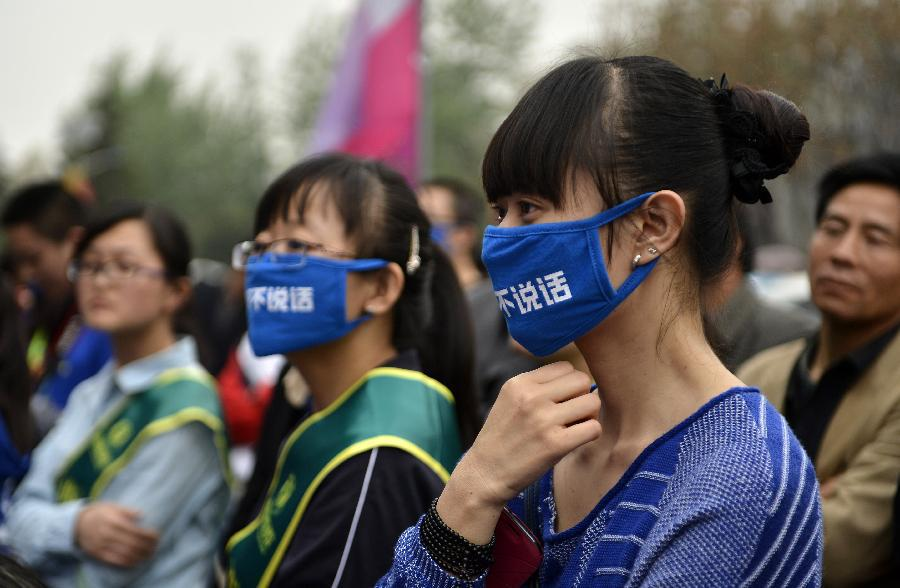NONE: (812, 194, 900, 317), (77, 245, 156, 332)
OK: (480, 187, 639, 346), (236, 215, 373, 352)
